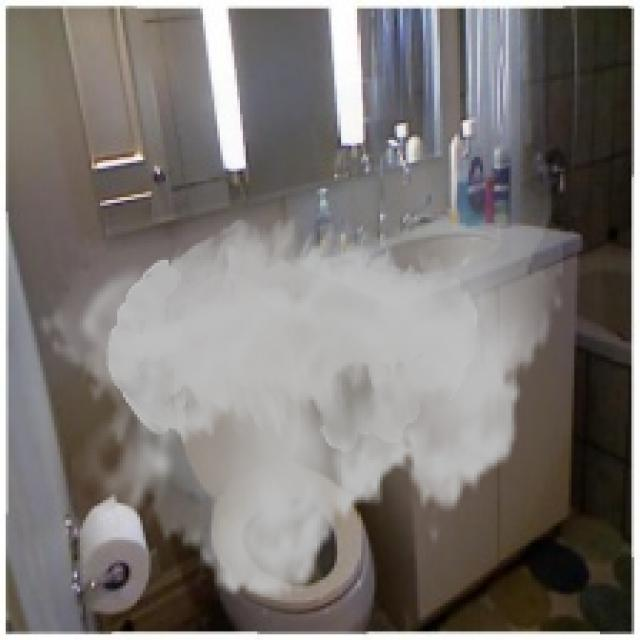smoke: (37, 60, 563, 620)
